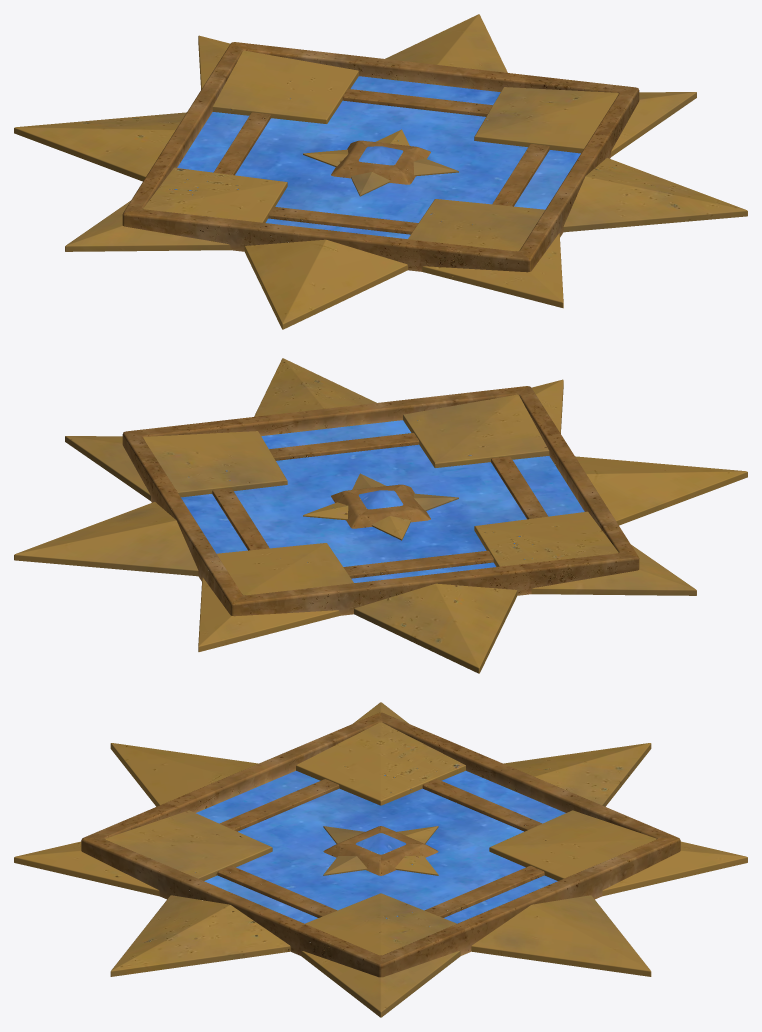
3 renders of one model, top to bottom at view 1: azimuth 30°, elevation 25°; view 2: azimuth 150°, elevation 25°; view 3: azimuth 270°, elevation 25°, orthographic.
Parts seen in each view (by area): view 1: SM_Vault_Staff_Base_01_LOD0; view 2: SM_Vault_Staff_Base_01_LOD0; view 3: SM_Vault_Staff_Base_01_LOD0.
Boxes of the visible parts, x1=… form: SM_Vault_Staff_Base_01_LOD0: x1=14, y1=14, x2=747, y2=329; SM_Vault_Staff_Base_01_LOD0: x1=14, y1=358, x2=747, y2=673; SM_Vault_Staff_Base_01_LOD0: x1=14, y1=702, x2=747, y2=1017.
Bounding box in the file's own units: 2.44 × 0.1021 × 2.44.
3 materials, 3 textured.
